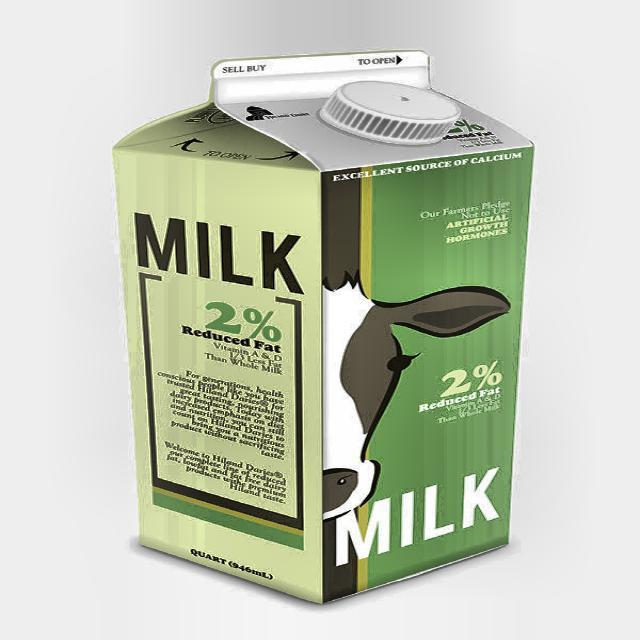cardboard: (110, 50, 534, 604)
